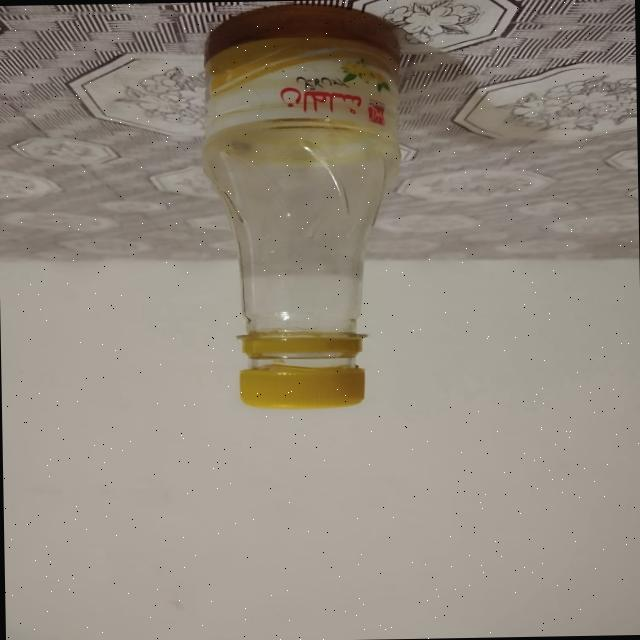bottle: (177, 0, 412, 417)
cap: (213, 322, 380, 416)
label: (178, 32, 414, 160)
